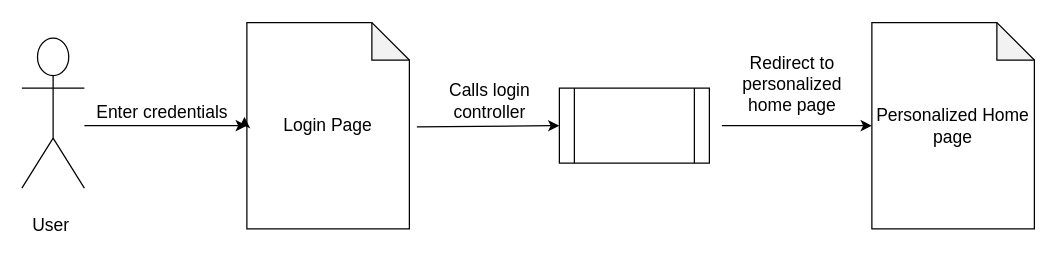
Some shapes in this 1056 by 259 pixel diagram are drawn without their labels. Here are the shapes that lost their labels. From the top down, the box of each, then its label:
(21, 37, 84, 188): Actor
(558, 87, 709, 163): Login Controller
